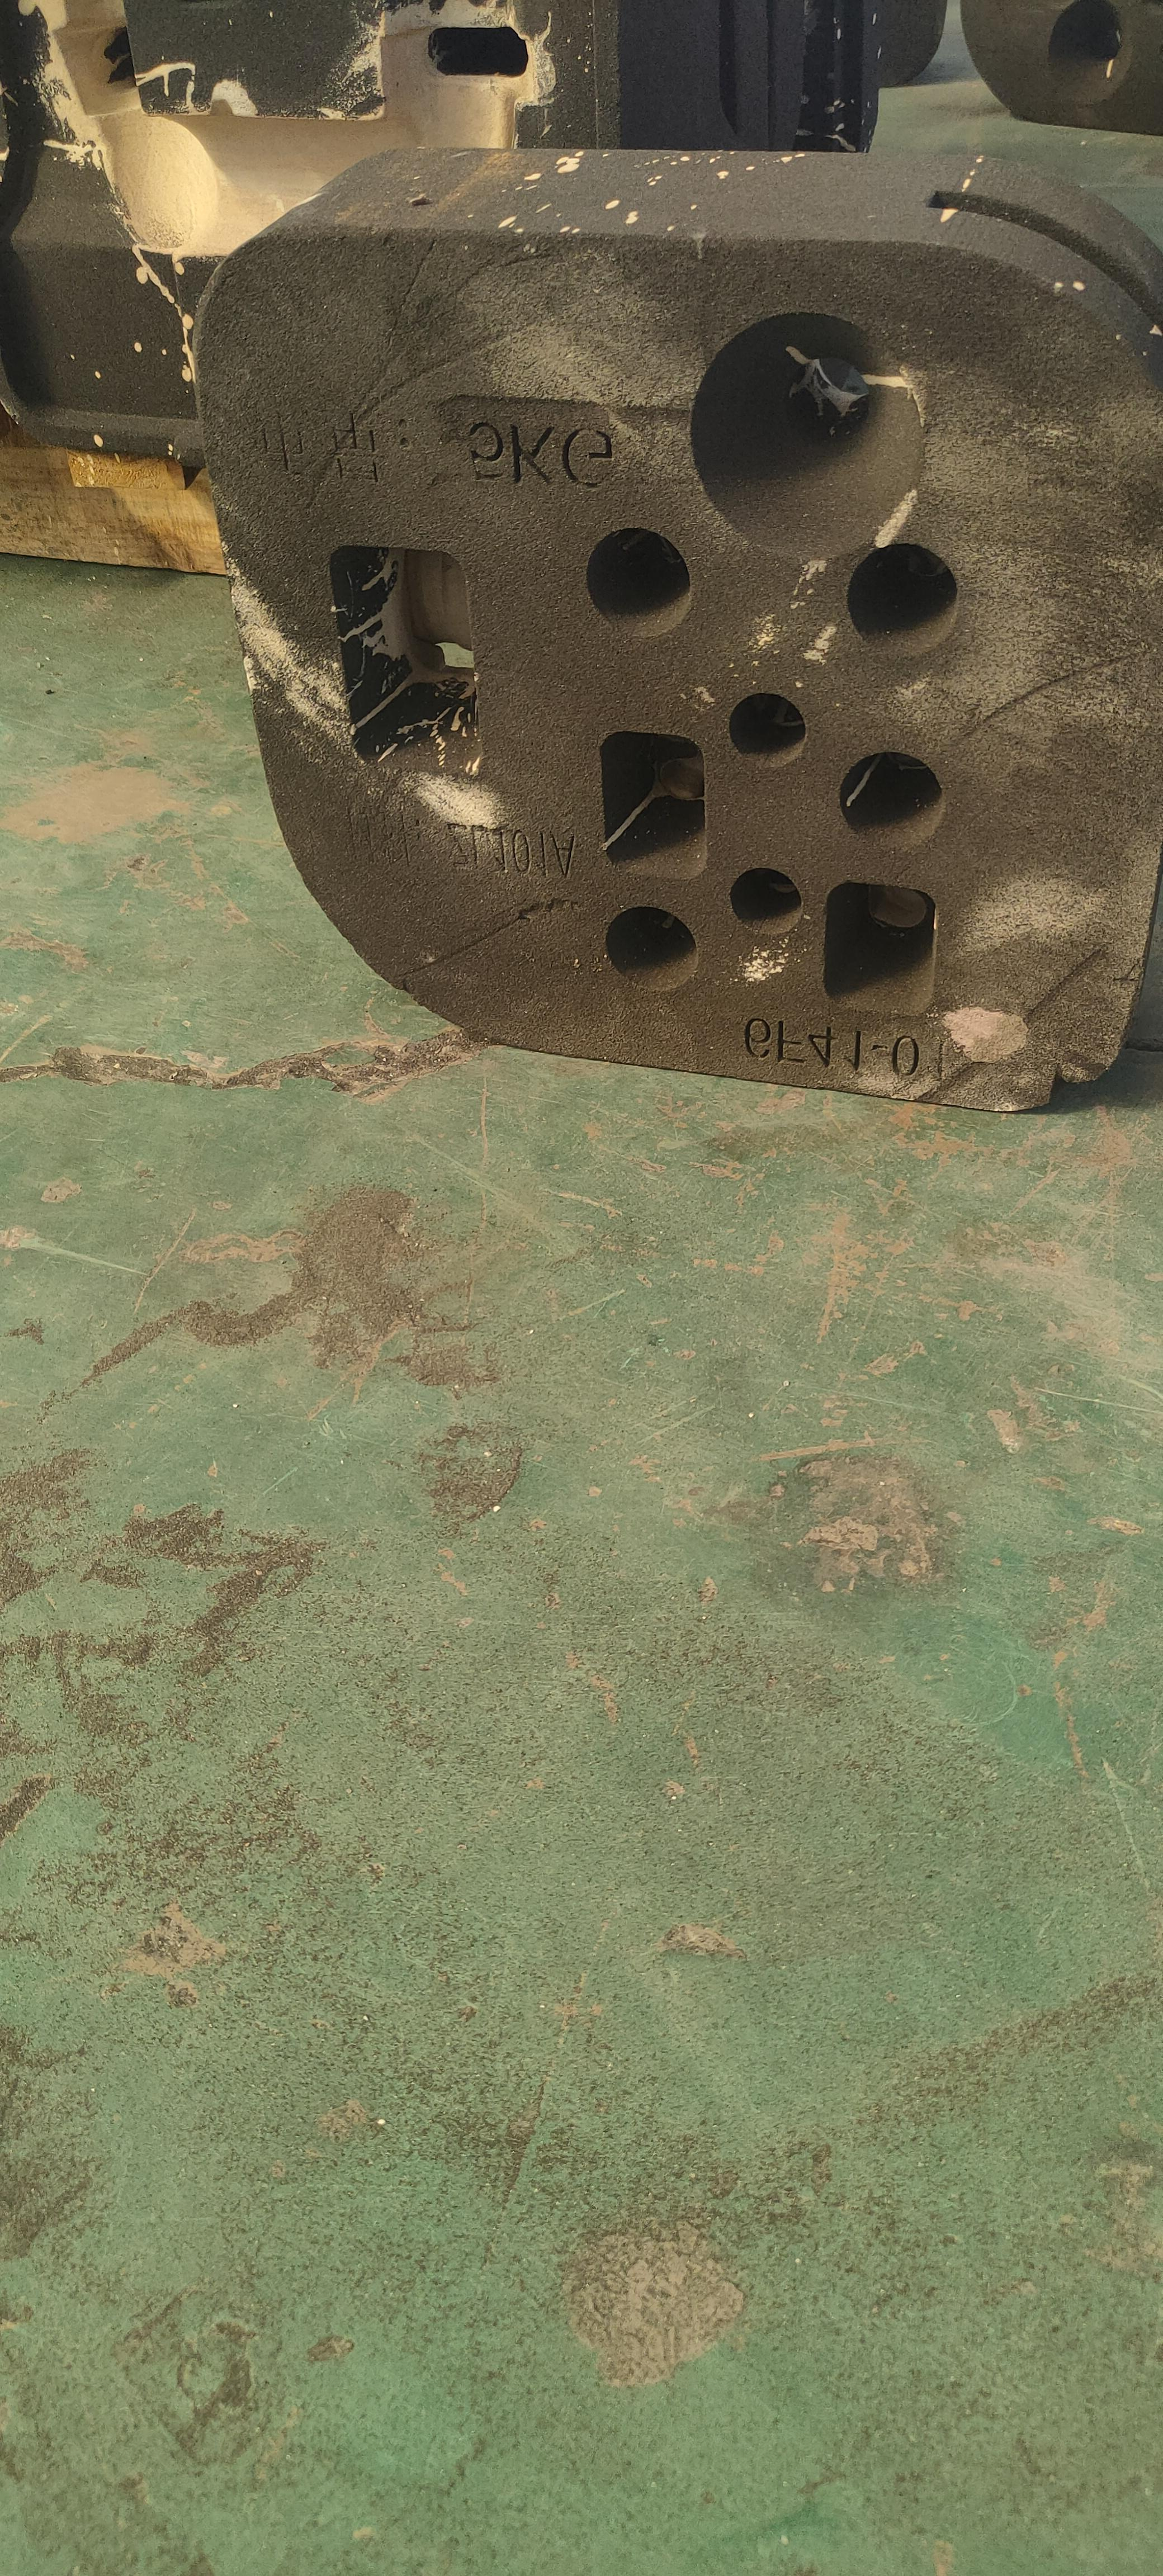pouring hole: (696, 312, 926, 562), (1045, 0, 1135, 105)
